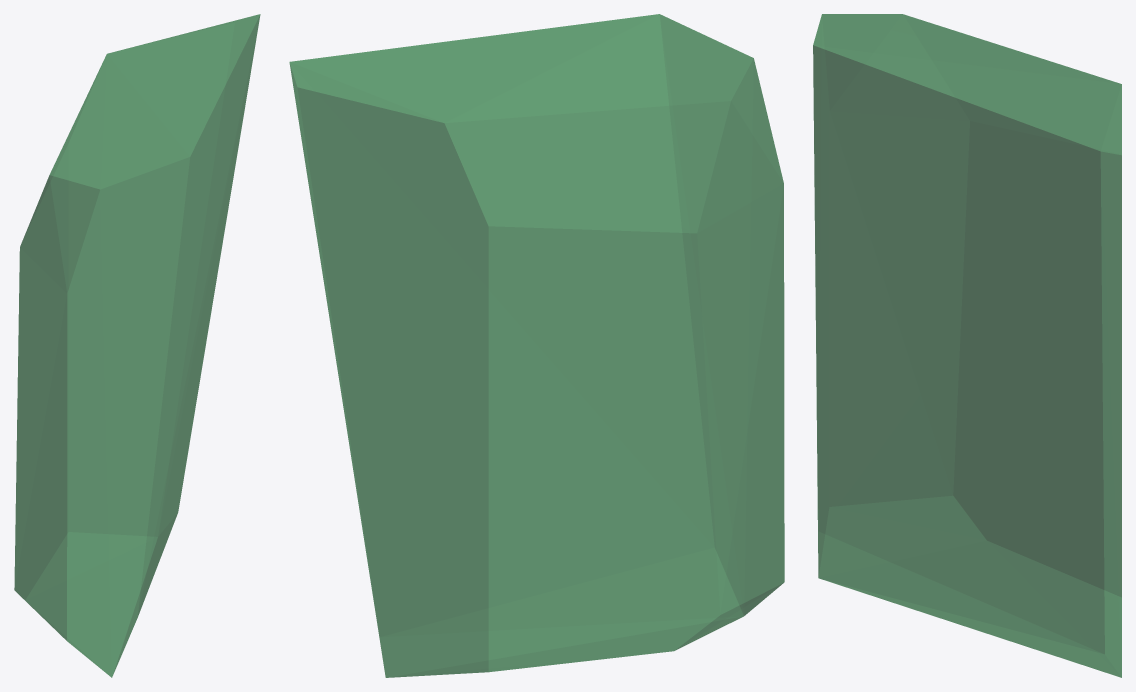
The picture shows the model from 3 angles, left to right: view 1: azimuth 30°, elevation 25°; view 2: azimuth 150°, elevation 25°; view 3: azimuth 270°, elevation 25°; orthographic projection. The views are drawn at different scales.
Visible parts, largest first — view 1: Shape_IndexedFaceSet.008_Shape_IndexedFaceSet.15858; view 2: Shape_IndexedFaceSet.008_Shape_IndexedFaceSet.15858; view 3: Shape_IndexedFaceSet.008_Shape_IndexedFaceSet.15858.
Boxes of the visible parts, x1=… form: Shape_IndexedFaceSet.008_Shape_IndexedFaceSet.15858: x1=14, y1=14, x2=260, y2=677; Shape_IndexedFaceSet.008_Shape_IndexedFaceSet.15858: x1=289, y1=14, x2=784, y2=677; Shape_IndexedFaceSet.008_Shape_IndexedFaceSet.15858: x1=813, y1=14, x2=1121, y2=677.
Size of the model in its own units: 0.0558 by 0.0866 by 0.0419.
